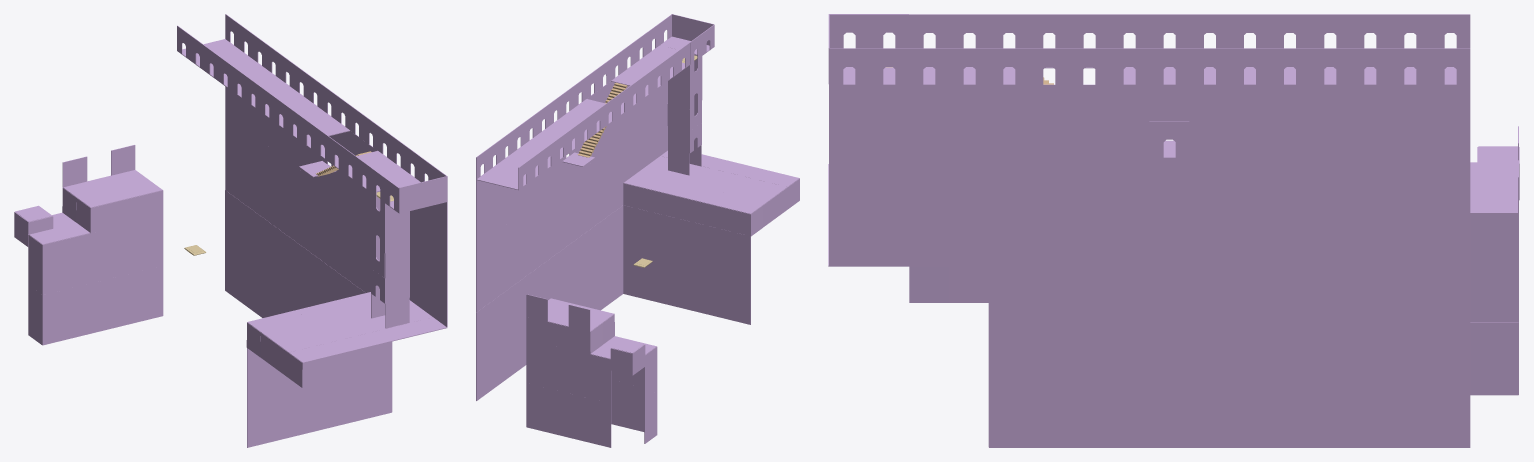
Rendered from lvl 3 no destruction.fbx.
The picture shows the model from 3 angles, left to right: view 1: azimuth 30°, elevation 25°; view 2: azimuth 150°, elevation 25°; view 3: azimuth 270°, elevation 25°; orthographic projection. The views are drawn at different scales.
Parts seen in each view (by area): view 1: plain wall.287, plain wall.373, plain wall.589, plain wall.176, plain wall.223, plain wall.500, plain wall.514, plain wall.288, plain wall.462, plain wall.479, plain wall.497, plain wall.533 (+35 smaller); view 2: plain wall.287, plain wall.249, plain wall.288, plain wall.185, plain wall.530, plain wall.254, plain wall.444, plain wall.460, plain wall.462, plain wall.478, plain wall.479, plain wall.548 (+49 smaller); view 3: plain wall.370, plain wall.360, plain wall.362, plain wall.372, plain wall.374, plain wall.376, plain wall.386, plain wall.388, plain wall.561, plain wall.416, plain wall.293, plain wall.302 (+171 smaller).
Boxes of the visible parts, left/top/right/bottom form: plain wall.287: left=62, top=156, right=87, bottom=187; plain wall.373: left=399, top=182, right=423, bottom=212; plain wall.589: left=423, top=176, right=447, bottom=206; plain wall.176: left=90, top=202, right=114, bottom=232; plain wall.223: left=42, top=239, right=66, bottom=269; plain wall.500: left=319, top=399, right=343, bottom=430; plain wall.514: left=367, top=387, right=391, bottom=418; plain wall.288: left=111, top=145, right=135, bottom=175; plain wall.462: left=247, top=366, right=271, bottom=397; plain wall.479: left=271, top=386, right=295, bottom=416; plain wall.497: left=343, top=368, right=367, bottom=399; plain wall.533: left=42, top=289, right=66, bottom=320; plain wall.287: left=568, top=304, right=590, bottom=331; plain wall.249: left=611, top=348, right=632, bottom=375; plain wall.288: left=526, top=294, right=547, bottom=321; plain wall.185: left=547, top=322, right=568, bottom=348; plain wall.530: left=614, top=380, right=635, bottom=407; plain wall.254: left=568, top=349, right=589, bottom=376; plain wall.444: left=729, top=231, right=750, bottom=258; plain wall.460: left=644, top=210, right=665, bottom=237; plain wall.462: left=729, top=253, right=750, bottom=280; plain wall.478: left=644, top=233, right=665, bottom=259; plain wall.479: left=708, top=270, right=729, bottom=297; plain wall.548: left=547, top=410, right=568, bottom=437; plain wall.370: left=1189, top=84, right=1229, bottom=121; plain wall.360: left=1309, top=84, right=1349, bottom=121; plain wall.362: left=1430, top=84, right=1470, bottom=121; plain wall.372: left=1149, top=84, right=1189, bottom=121; plain wall.374: left=1269, top=84, right=1309, bottom=121; plain wall.376: left=1229, top=84, right=1269, bottom=121; plain wall.386: left=1109, top=84, right=1149, bottom=121; plain wall.388: left=1069, top=84, right=1109, bottom=121; plain wall.561: left=829, top=84, right=869, bottom=121; plain wall.416: left=909, top=84, right=949, bottom=121; plain wall.293: left=1478, top=213, right=1518, bottom=249; plain wall.302: left=1109, top=230, right=1149, bottom=266.
Bounding box in the file's own units: 3242 × 4400 × 6894.
